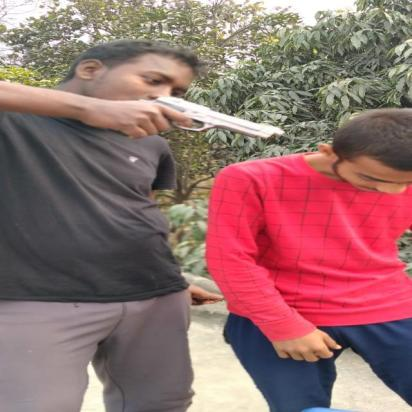Gun: (100, 93, 289, 142)
